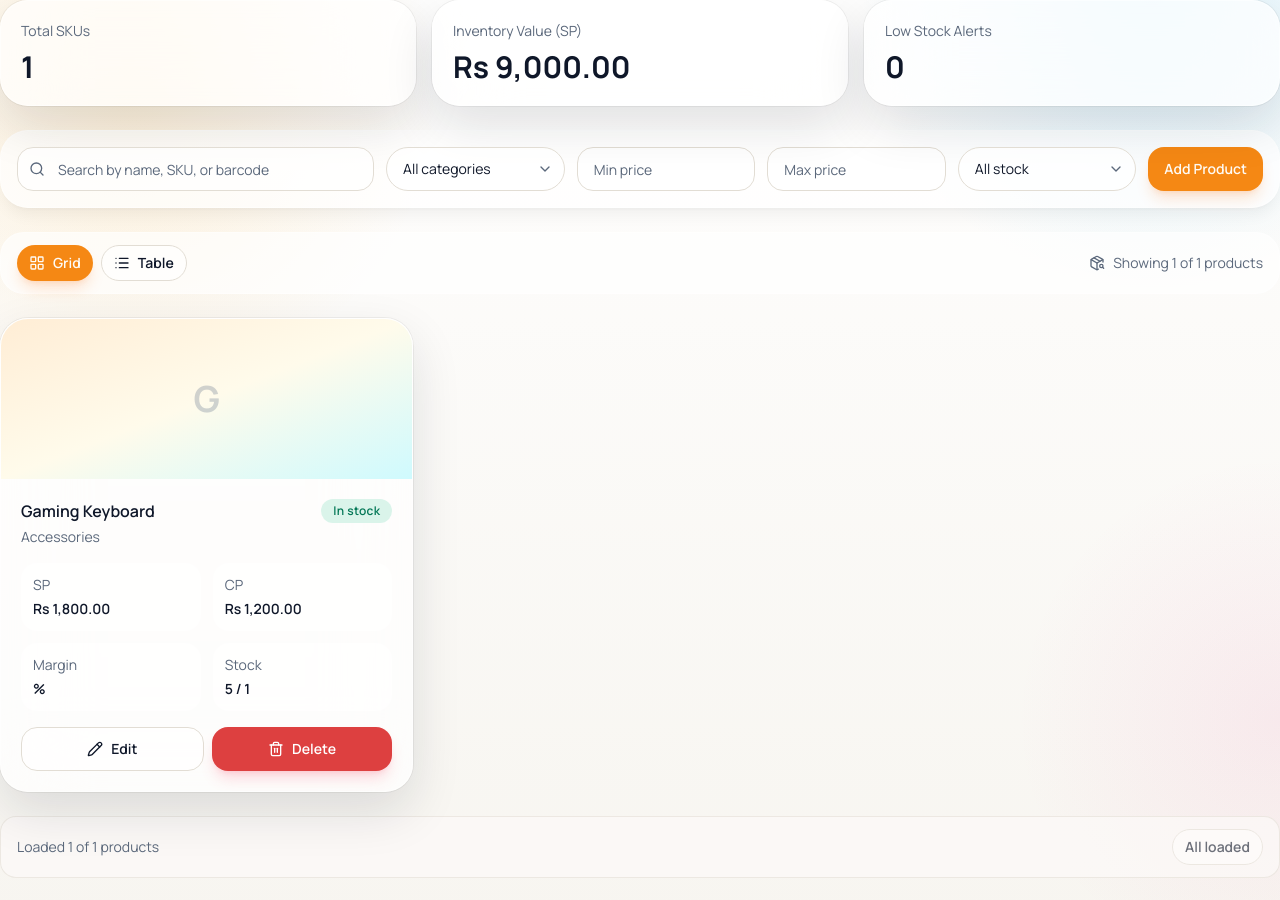
ProductsPage › shows products and opens add product modal
Check: the text "Gaming Keyboard" is shown, box [21,499,155,523]
What coordinates should you click on to do the following:
click the button "Add Product"
I would click on:
 (1206, 169)
Its box is [1148,147,1263,191].
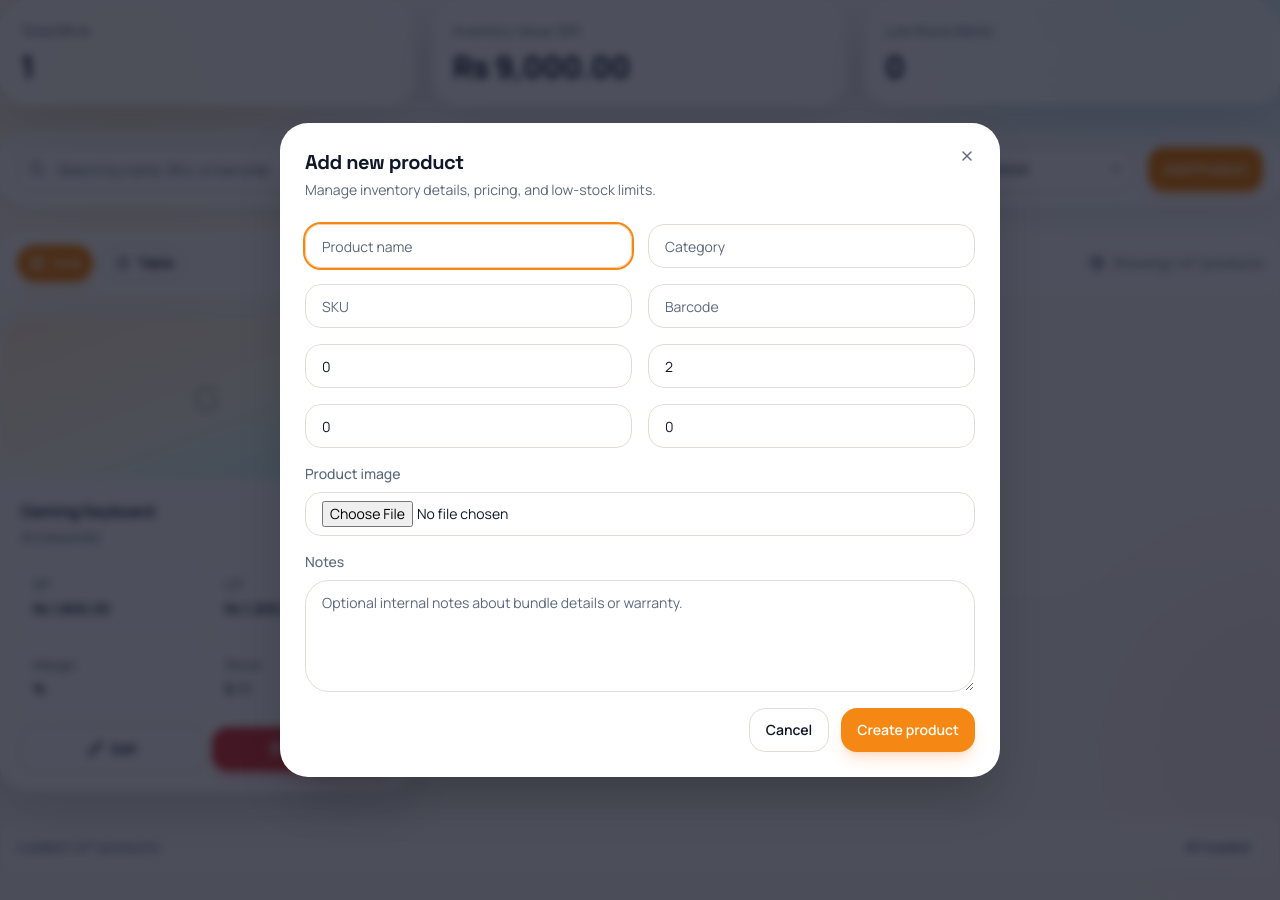
Check: the heading "Add new product" is shown, box [305,149,464,175]
